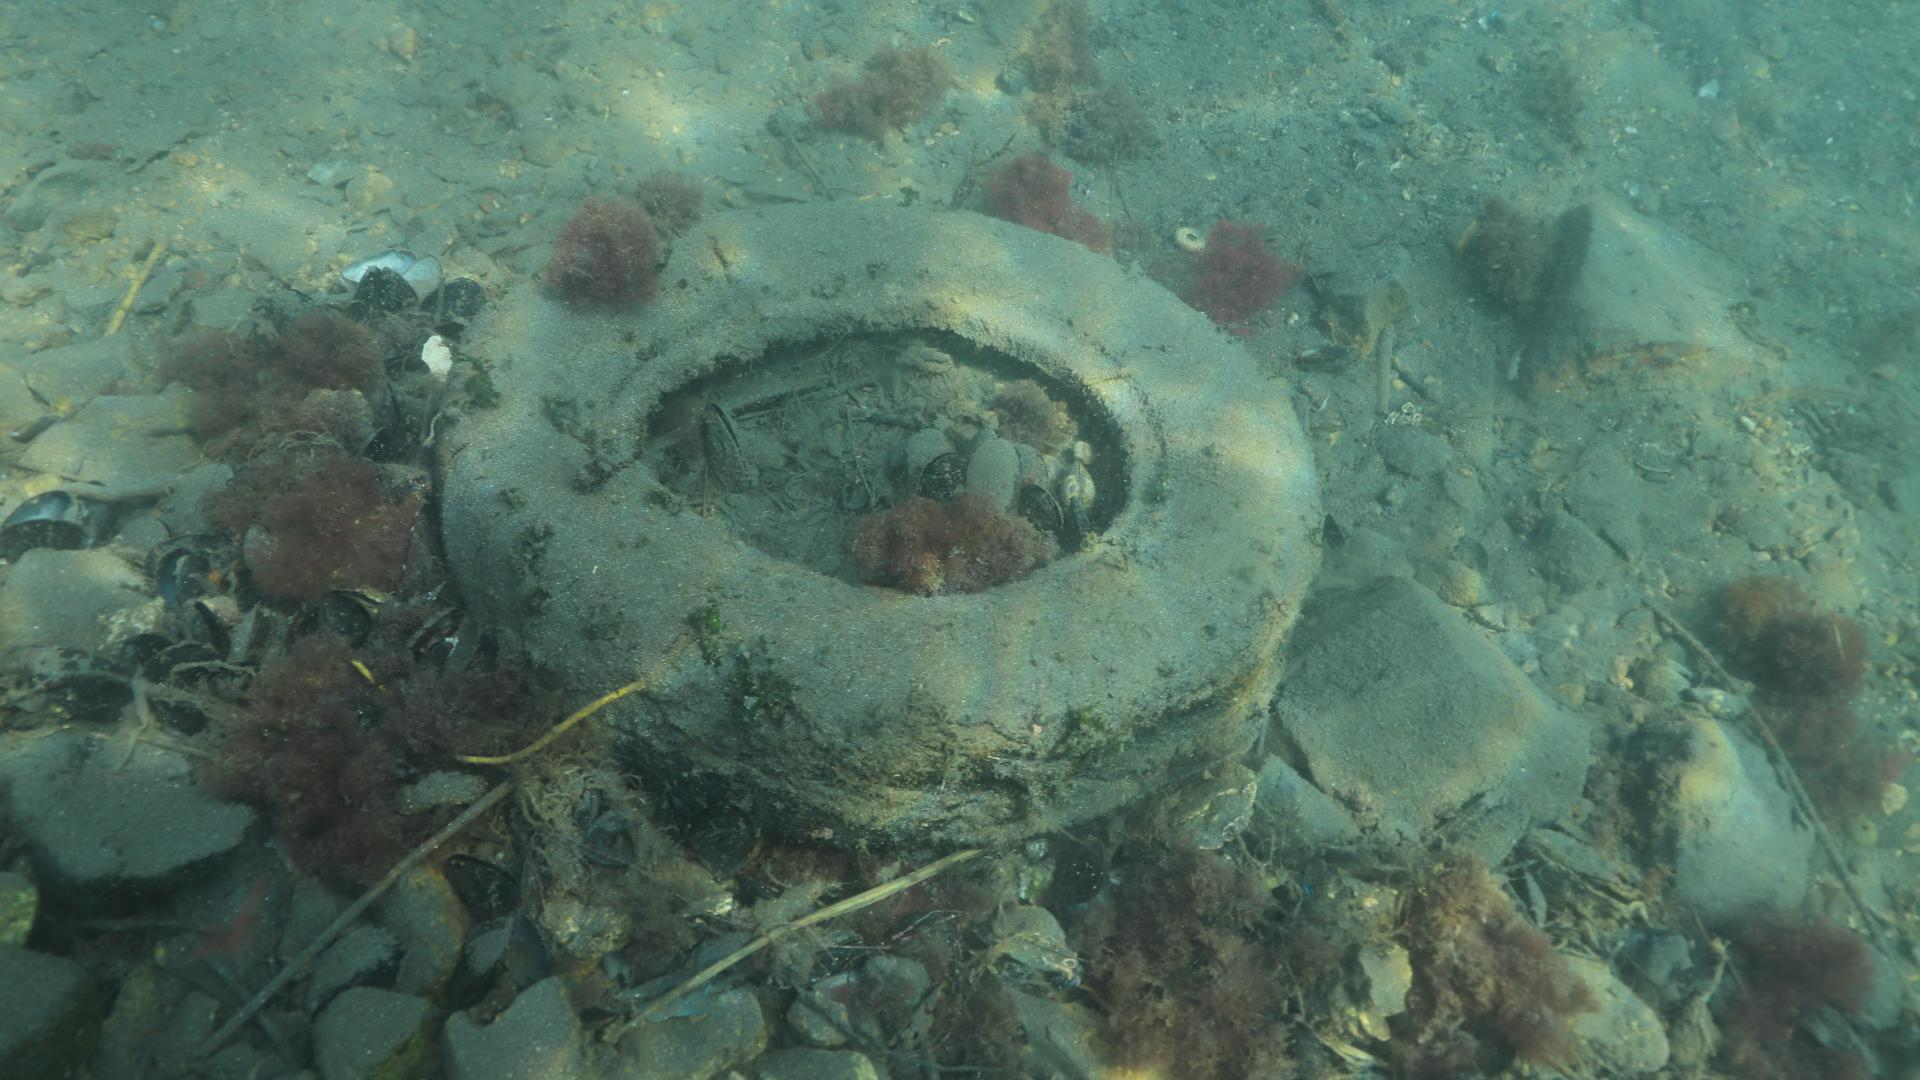tire: (440, 196, 1323, 855)
